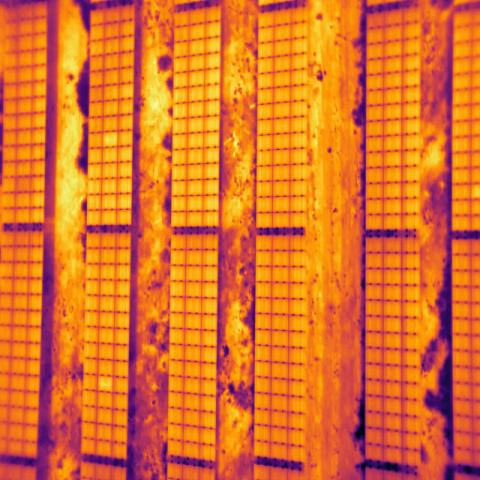fault: (97, 376, 114, 391)
